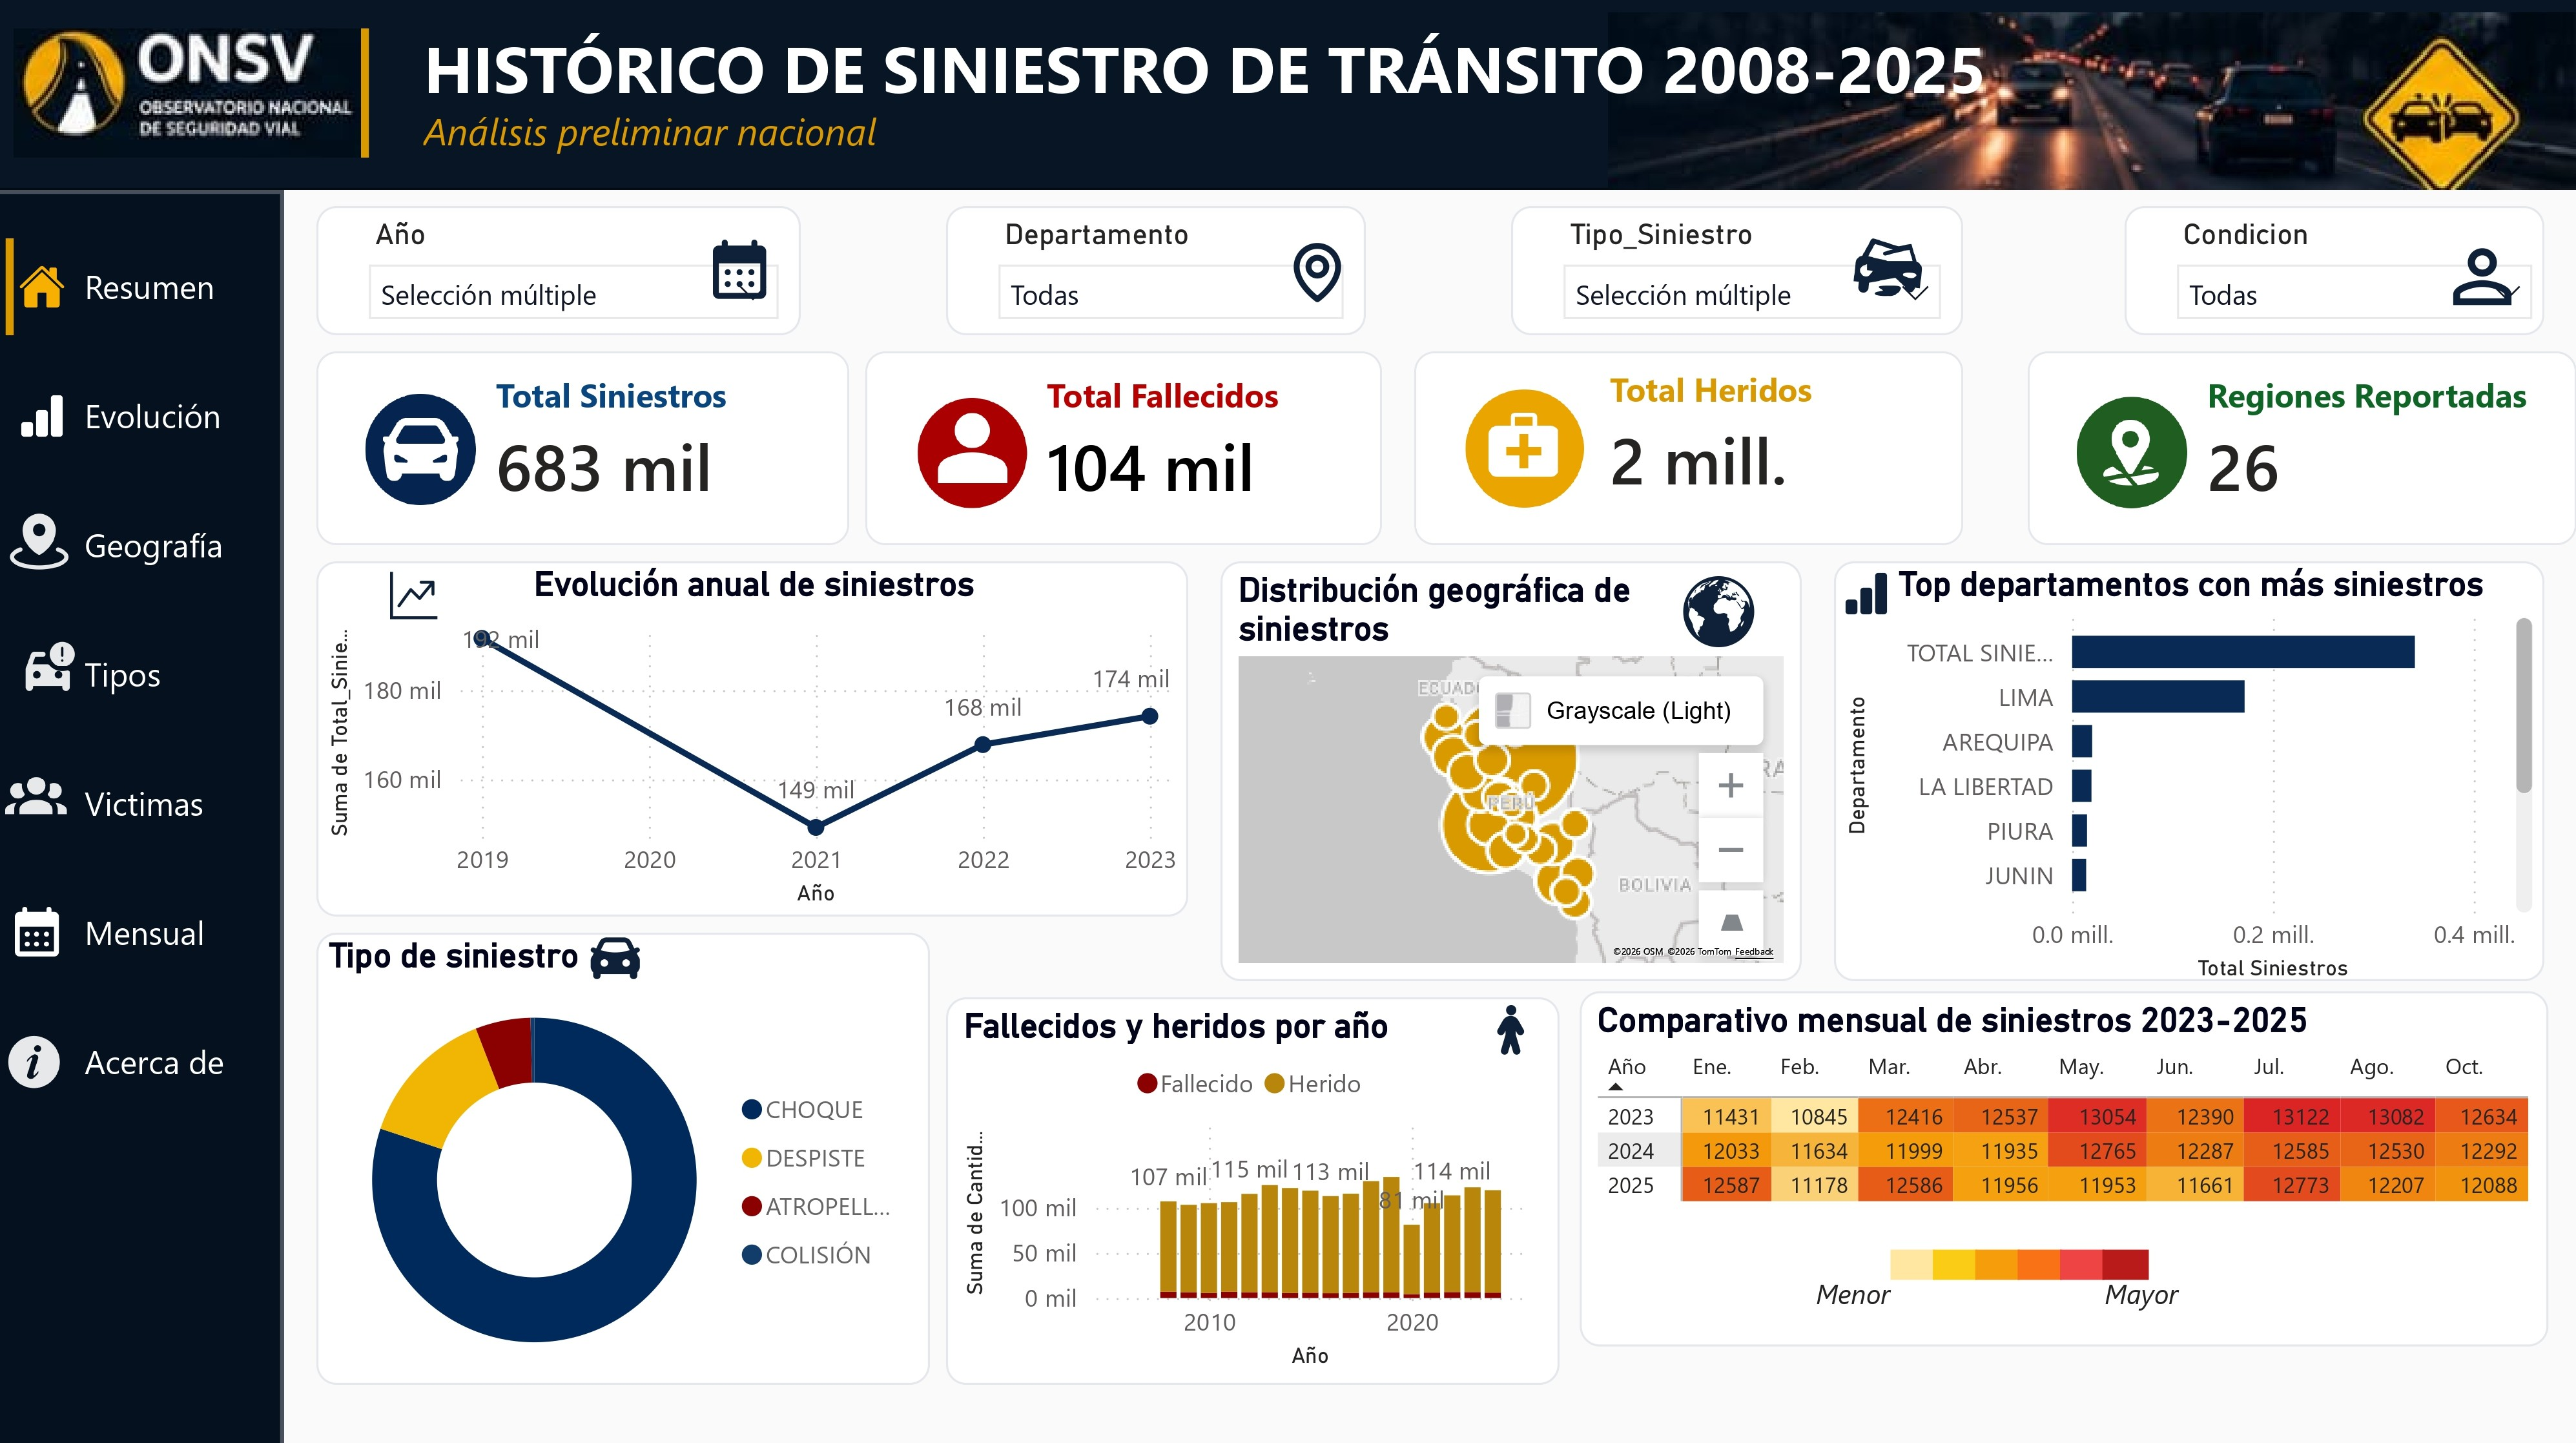

The page's visual inventory and layout, read from the dashboard file:
{"tool":"powerbi","page":{"name":"Página 1","canvas":[1280,720],"ordinal":0},"visuals":[{"type":"shape","box":[144,96,1136,625],"z":0},{"type":"shape","box":[939.9,620.7,22.4,14.7],"z":0,"group":"g1"},{"type":"shape","box":[0,0,1280,95],"z":1000},{"type":"shape","box":[960.9,620.7,22.4,14.7],"z":1000,"group":"g1"},{"type":"textbox","box":[208,32,1072,160],"z":2000},{"type":"shape","box":[982,620.7,22.4,14.7],"z":2000,"group":"g1"},{"type":"shape","box":[0,96,144,624],"z":3000},{"type":"shape","box":[1003.1,620.7,22.4,14.7],"z":3000,"group":"g1"},{"type":"textbox","box":[40,128,128,64],"z":4000},{"type":"shape","box":[1024.2,620.7,22.4,14.7],"z":4000,"group":"g1"},{"type":"textbox","box":[40,192,128,64],"z":5000},{"type":"shape","box":[1045.3,620.7,22.4,14.7],"z":5000,"group":"g1"},{"type":"textbox","box":[40,256,128,64],"z":6000},{"type":"textbox","box":[898.2,628.7,232,56],"z":6000,"group":"g1"},{"type":"textbox","box":[40,320,128,64],"z":7000},{"type":"textbox","box":[40,384,128,64],"z":8000},{"type":"textbox","box":[40,448,128,64],"z":9000},{"type":"textbox","box":[40,512,128,64],"z":10000},{"type":"shape","box":[0,120,16,48],"z":11000},{"type":"slicer","fields":{"Values":["Fact_Siniestros_Region.Año"]},"box":[160,104,240,64],"z":12000},{"type":"slicer","fields":{"Values":["Fact_Siniestros_Region.DEPARTAMENTO"]},"box":[472,104,208,64],"z":13000},{"type":"slicer","fields":{"Values":["Fact_Siniestros_Tipo.Tipo_Siniestro"]},"box":[752,104,224,64],"z":14000},{"type":"slicer","fields":{"Values":["Fact_Victimas.Condicion"]},"box":[1056,104,208,64],"z":15000},{"type":"cardVisual","fields":{"Data":["Fact_Siniestros_Region.Total Fallecidos"]},"box":[432,176,256,96],"z":16000},{"type":"cardVisual","fields":{"Data":["Fact_Siniestros_Region.Total Siniestros"]},"box":[160,176,264,96],"z":17000},{"type":"cardVisual","fields":{"Data":["Fact_Siniestros_Region.Total Heridos"]},"box":[704,176,272,96],"z":18000},{"type":"cardVisual","fields":{"Data":["Fact_Siniestros_Region.Regiones Reportadas"]},"box":[1008,176,272,96],"z":19000},{"type":"lineChart","title":"       Evolución anual de siniestros","fields":{"Category":["Fact_Siniestros_Region.Año"],"Y":["Sum(Fact_Siniestros_Region.Total_Siniestros)"]},"box":[160,280,432,176],"z":20000},{"type":"azureMap","title":"Distribución geográfica de siniestros","fields":{"Category":["Fact_Siniestros_Region.Ubicacion_Mapa"],"Size":["Fact_Siniestros_Region.Total Siniestros"]},"box":[608,280,288,208],"z":21000},{"type":"clusteredBarChart","title":"Top departamentos con más siniestros","fields":{"Category":["Fact_Siniestros_Region.Departamento"],"Y":["Fact_Siniestros_Region.Total Siniestros"]},"box":[912,280,352,208],"z":22000},{"type":"donutChart","title":"Tipo de siniestro","fields":{"Category":["Fact_Siniestros_Tipo.Tipo_Siniestro"],"Y":["Sum(Fact_Siniestros_Tipo.Cantidad)"]},"box":[160,464,304,224],"z":23000},{"type":"pivotTable","title":"Comparativo mensual de siniestros 2023-2025","fields":{"Rows":["Fact_Siniestros_Mensual.Año"],"Values":["Sum(Fact_Siniestros_Mensual.Siniestros)"],"Columns":["Dim_Meses.Mes_Corto"]},"box":[786.2,492.7,480,176],"z":24000},{"type":"columnChart","title":"Fallecidos y heridos por año","fields":{"Category":["Fact_Victimas.Año"],"Series":["Fact_Victimas.Condicion"],"Y":["Sum(Fact_Victimas.Cantidad)"]},"box":[472,496,304,192],"z":25000},{"type":"group","id":"g1","title":"Grupo 1","box":[898.2,620.7,232,64],"z":26000},{"type":"shape","box":[176,16,16,64],"z":27000},{"type":"image","box":[192,280,32,32],"z":28000},{"type":"image","box":[320,112,96,48],"z":29000},{"type":"image","box":[832,280,48,48],"z":30000},{"type":"image","box":[624,112,64,48],"z":31000},{"type":"image","box":[800,8,480,88],"z":32000},{"type":"image","box":[912,104,53,61],"z":33000},{"type":"image","box":[1208,112,48,56],"z":34000},{"type":"image","box":[728,480,48,64],"z":35000},{"type":"image","box":[912,272,32,48],"z":36000},{"type":"image","box":[8,152,32,112],"z":37000},{"type":"image","box":[0,416,40,96],"z":38000},{"type":"image","box":[0,496,40,64],"z":39000},{"type":"image","box":[0,248,45,45],"z":40000},{"type":"image","box":[8,128,32,32],"z":41000},{"type":"image","box":[0,352,42,85],"z":42000},{"type":"image","box":[8,304,40,56],"z":43000},{"type":"image","box":[272,456,72,40],"z":44000},{"type":"textbox","box":[208,8,1071,144],"z":45000},{"type":"image","box":[0,16,192,64],"z":46000}]}

Visuals, with their boxes on the page's 1280x720 design canvas (x1, y1, x2, y2). These are canvas units, not pixel positions in the 2576x1443 screenshot, which may show the page scaled, cropped or inside an application window:
shape: locate(144, 96, 1280, 721)
shape: locate(940, 621, 962, 635)
shape: locate(0, 0, 1280, 95)
shape: locate(961, 621, 983, 635)
textbox: locate(208, 32, 1280, 192)
shape: locate(982, 621, 1004, 635)
shape: locate(0, 96, 144, 720)
shape: locate(1003, 621, 1026, 635)
textbox: locate(40, 128, 168, 192)
shape: locate(1024, 621, 1047, 635)
textbox: locate(40, 192, 168, 256)
shape: locate(1045, 621, 1068, 635)
textbox: locate(40, 256, 168, 320)
textbox: locate(898, 629, 1130, 685)
textbox: locate(40, 320, 168, 384)
textbox: locate(40, 384, 168, 448)
textbox: locate(40, 448, 168, 512)
textbox: locate(40, 512, 168, 576)
shape: locate(0, 120, 16, 168)
slicer - Fact_Siniestros_Region.Año: locate(160, 104, 400, 168)
slicer - Fact_Siniestros_Region.DEPARTAMENTO: locate(472, 104, 680, 168)
slicer - Fact_Siniestros_Tipo.Tipo_Siniestro: locate(752, 104, 976, 168)
slicer - Fact_Victimas.Condicion: locate(1056, 104, 1264, 168)
cardVisual - Fact_Siniestros_Region.Total Fallecidos: locate(432, 176, 688, 272)
cardVisual - Fact_Siniestros_Region.Total Siniestros: locate(160, 176, 424, 272)
cardVisual - Fact_Siniestros_Region.Total Heridos: locate(704, 176, 976, 272)
cardVisual - Fact_Siniestros_Region.Regiones Reportadas: locate(1008, 176, 1280, 272)
"       Evolución anual de siniestros" lineChart: locate(160, 280, 592, 456)
"Distribución geográfica de siniestros" azureMap: locate(608, 280, 896, 488)
"Top departamentos con más siniestros" clusteredBarChart: locate(912, 280, 1264, 488)
"Tipo de siniestro" donutChart: locate(160, 464, 464, 688)
"Comparativo mensual de siniestros 2023-2025" pivotTable: locate(786, 493, 1266, 669)
"Fallecidos y heridos por año" columnChart: locate(472, 496, 776, 688)
"Grupo 1" group: locate(898, 621, 1130, 685)
shape: locate(176, 16, 192, 80)
image: locate(192, 280, 224, 312)
image: locate(320, 112, 416, 160)
image: locate(832, 280, 880, 328)
image: locate(624, 112, 688, 160)
image: locate(800, 8, 1280, 96)
image: locate(912, 104, 965, 165)
image: locate(1208, 112, 1256, 168)
image: locate(728, 480, 776, 544)
image: locate(912, 272, 944, 320)
image: locate(8, 152, 40, 264)
image: locate(0, 416, 40, 512)
image: locate(0, 496, 40, 560)
image: locate(0, 248, 45, 293)
image: locate(8, 128, 40, 160)
image: locate(0, 352, 42, 437)
image: locate(8, 304, 48, 360)
image: locate(272, 456, 344, 496)
textbox: locate(208, 8, 1279, 152)
image: locate(0, 16, 192, 80)
